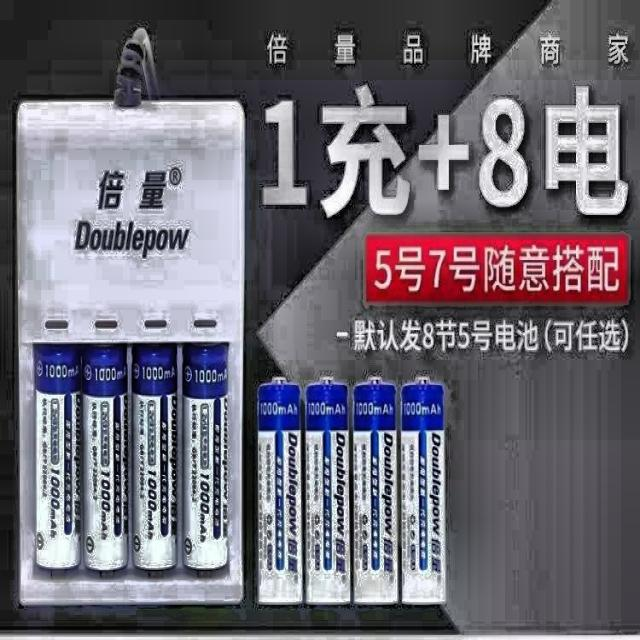Non-Valuable Waste - Batteries: (81, 344, 128, 571), (131, 344, 178, 570), (182, 344, 228, 571), (305, 377, 351, 603), (352, 379, 398, 604), (35, 346, 81, 569), (401, 379, 446, 603), (258, 377, 302, 603)
